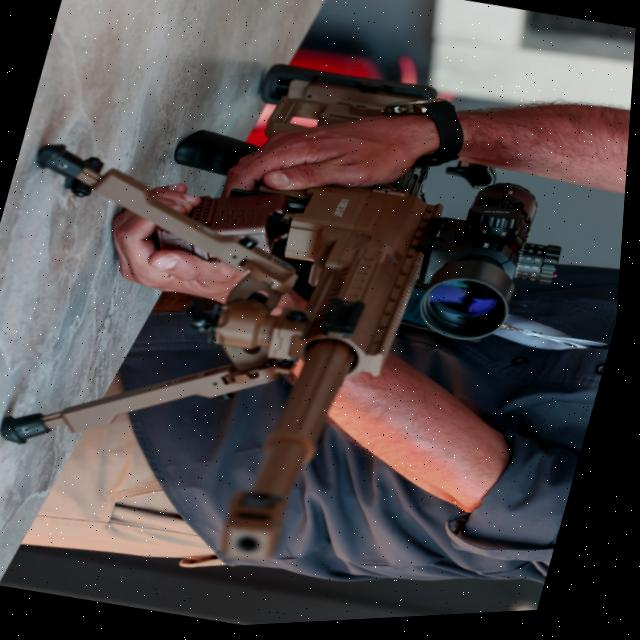firearm: (0, 3, 613, 627)
